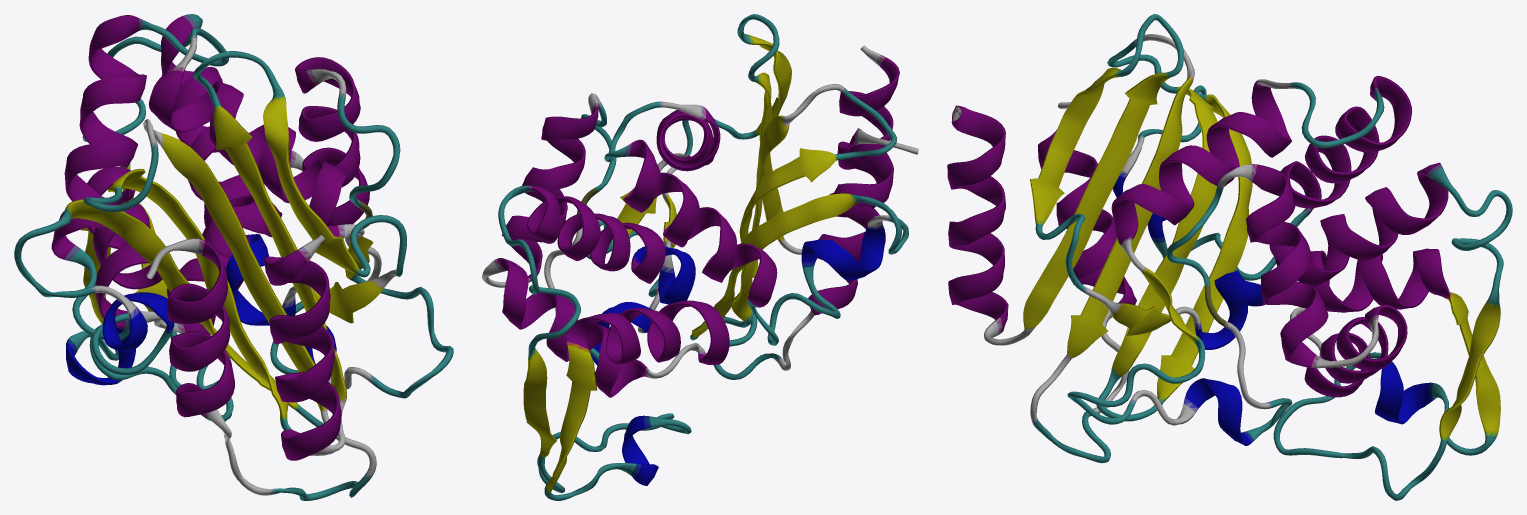
The model's file is animate.0028.obj.
3 renders of one model, left to right at view 1: azimuth 30°, elevation 25°; view 2: azimuth 150°, elevation 25°; view 3: azimuth 270°, elevation 25°, orthographic. The views are drawn at different scales.
Visible parts, largest first — view 1: vmd_mol0_rep0; view 2: vmd_mol0_rep0; view 3: vmd_mol0_rep0.
Boxes of the visible parts, x1,y1,x2,y2 form: vmd_mol0_rep0: (14,14,453,500); vmd_mol0_rep0: (482,14,918,500); vmd_mol0_rep0: (947,14,1512,500).
Bounding box in the file's own units: 1.01 × 1.12 × 1.32.
